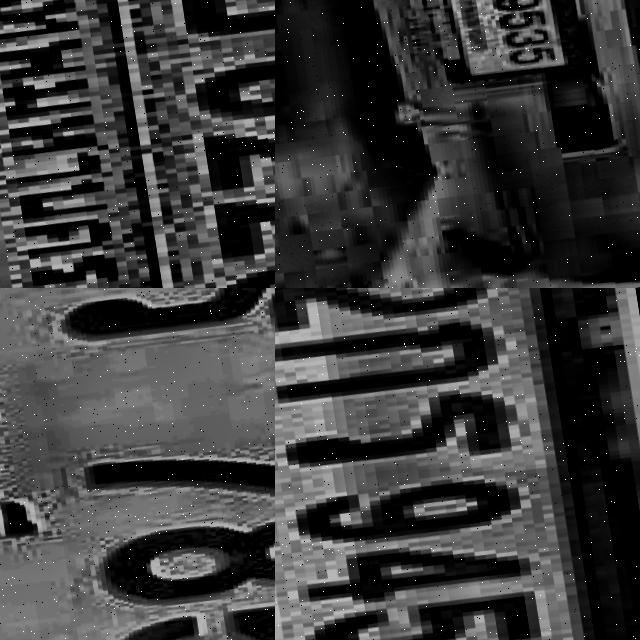license-plate: (275, 288, 640, 640), (0, 288, 275, 640), (0, 0, 275, 288), (404, 0, 599, 99)
